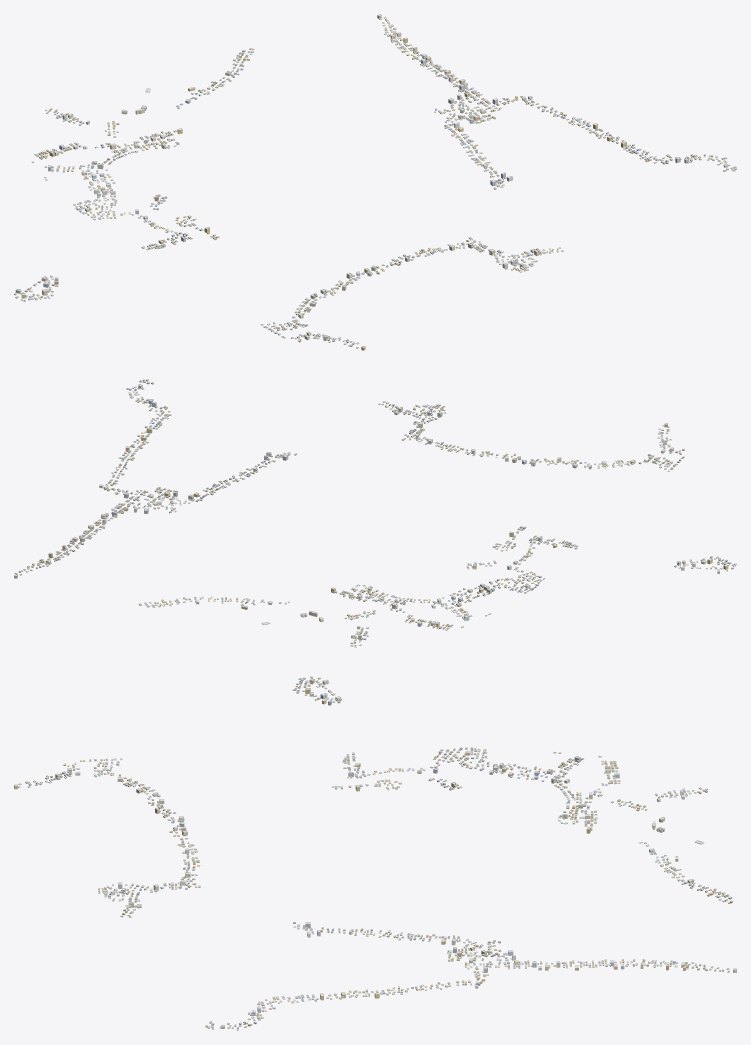
3 views of the same model, one above another, from view 1: azimuth 30°, elevation 25°; view 2: azimuth 150°, elevation 25°; view 3: azimuth 270°, elevation 25° (orthographic). The views are drawn at different scales.
Parts seen in each view (by area): view 1: house, roof_zinc, apartment, roof_flat; view 2: house, roof_zinc, apartment, roof_flat; view 3: house, roof_zinc, apartment, roof_flat.
Boxes of the visible parts, x1,y1,x2,y2 form: house: (14, 17, 736, 348); roof_zinc: (14, 17, 736, 347); apartment: (15, 14, 727, 350); roof_flat: (16, 14, 727, 347); house: (14, 379, 736, 647); roof_zinc: (15, 379, 736, 647); apartment: (14, 384, 728, 639); roof_flat: (14, 385, 727, 636); house: (18, 676, 733, 1030); roof_zinc: (18, 676, 732, 1029); apartment: (14, 678, 736, 1028); roof_flat: (14, 679, 736, 1026).
Bounding box in the file's own units: 1.28e+08 × 735366 × 1.11e+08.
